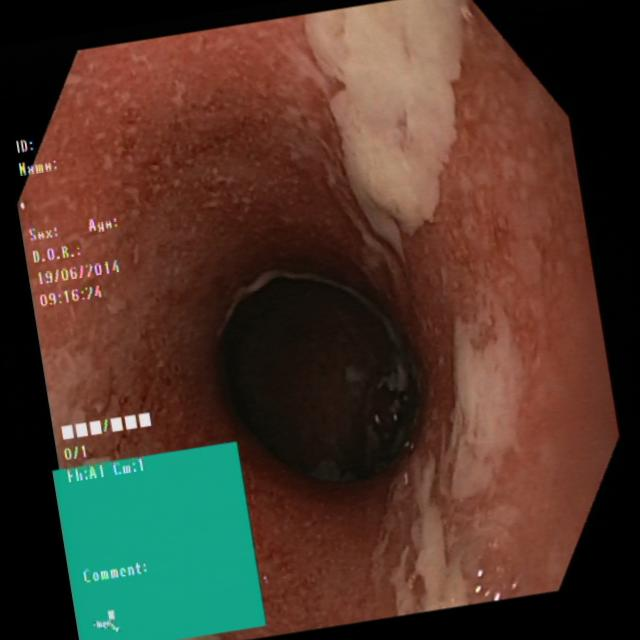ulcerative-colities: (369, 228, 544, 633), (290, 1, 482, 298)
